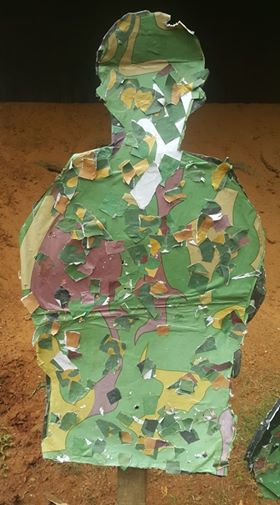Bullet: (133, 405, 139, 411), (202, 453, 208, 459)
